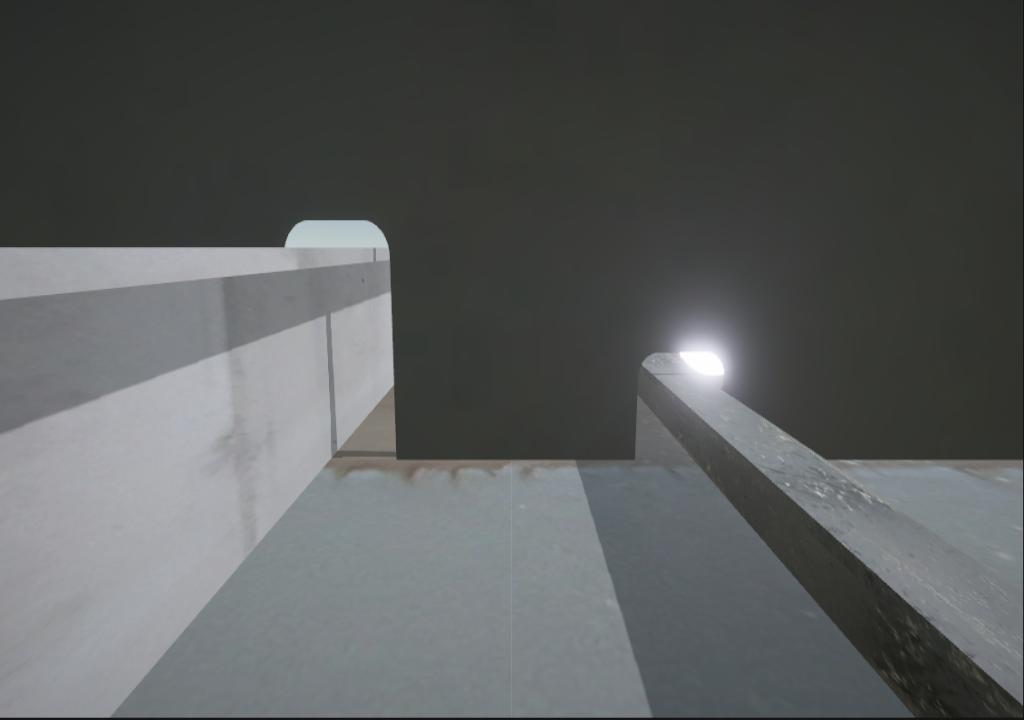fillet_yong_jeop_jang: (377, 443, 647, 471)
